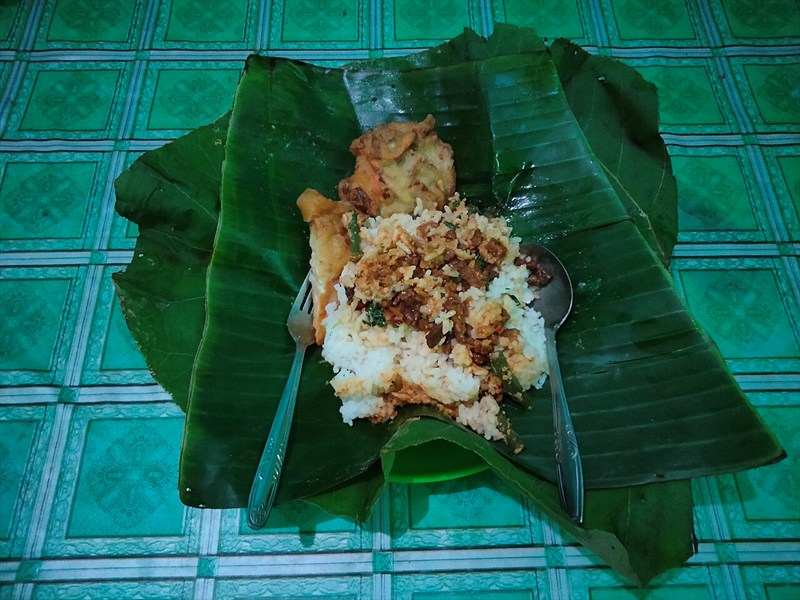Tempe Goreng: (107, 139, 553, 586)
